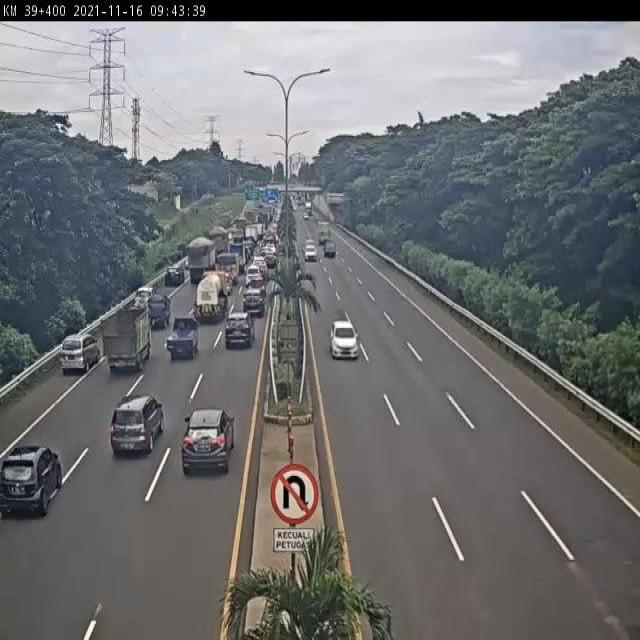car: (0, 440, 67, 525), (182, 404, 239, 476), (108, 394, 168, 462), (211, 304, 257, 361), (139, 288, 182, 337), (166, 315, 204, 365), (233, 282, 269, 330), (59, 334, 102, 374), (156, 258, 189, 306), (329, 320, 362, 361), (131, 280, 164, 317), (238, 259, 268, 296), (244, 271, 270, 301), (170, 248, 192, 283), (298, 240, 321, 267)
small truck: (100, 303, 154, 377), (185, 261, 235, 328), (208, 236, 245, 292)
truck-m-: (185, 232, 218, 284)
